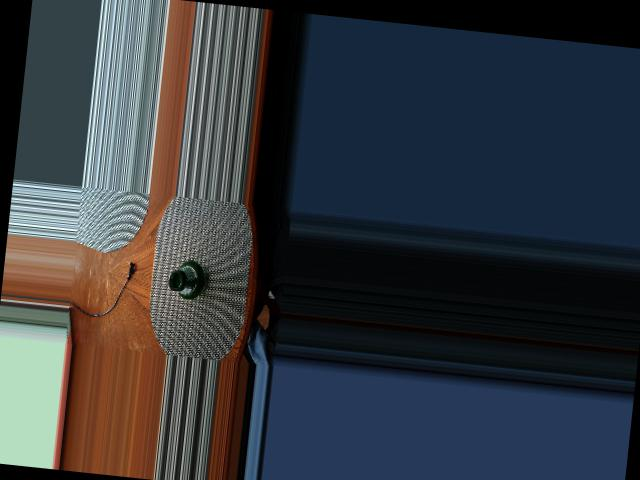beer: (168, 259, 210, 299)
